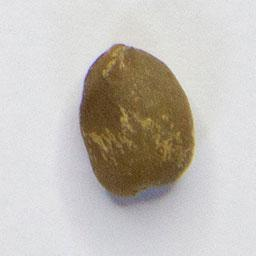defect: (77, 42, 198, 201)
